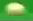white: (0, 0, 33, 21)
